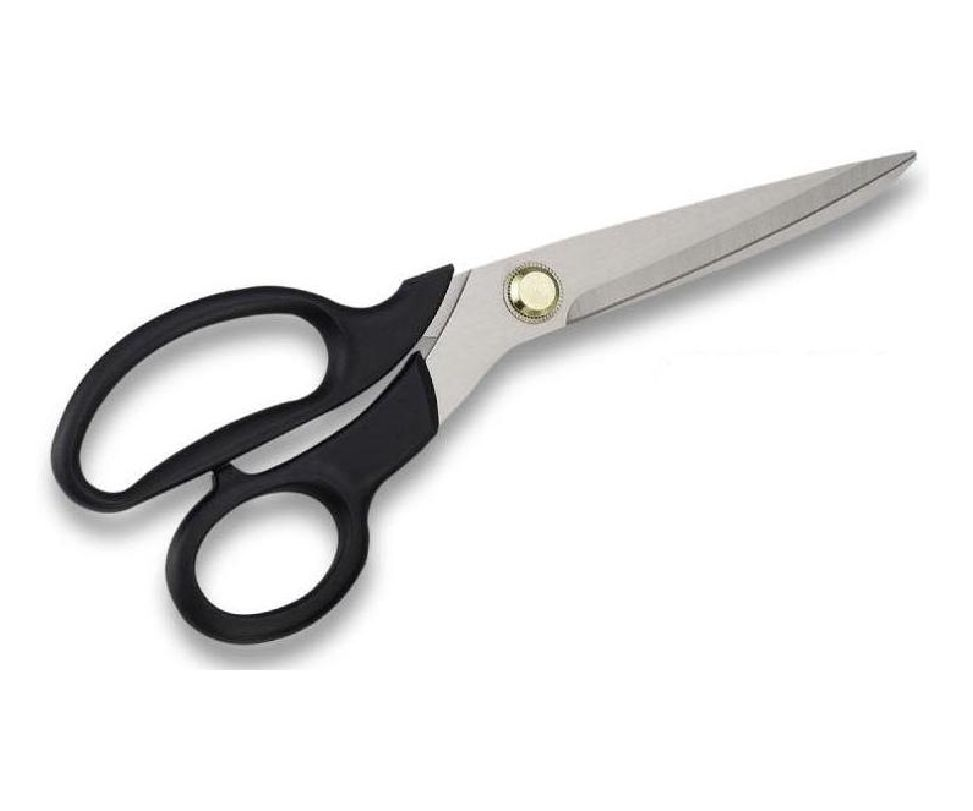scissors: (25, 147, 923, 648)
